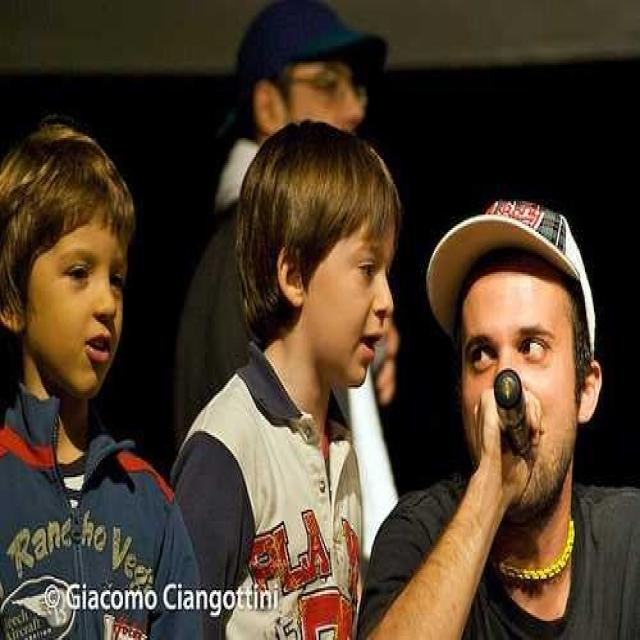microphone: (494, 366, 530, 454)
